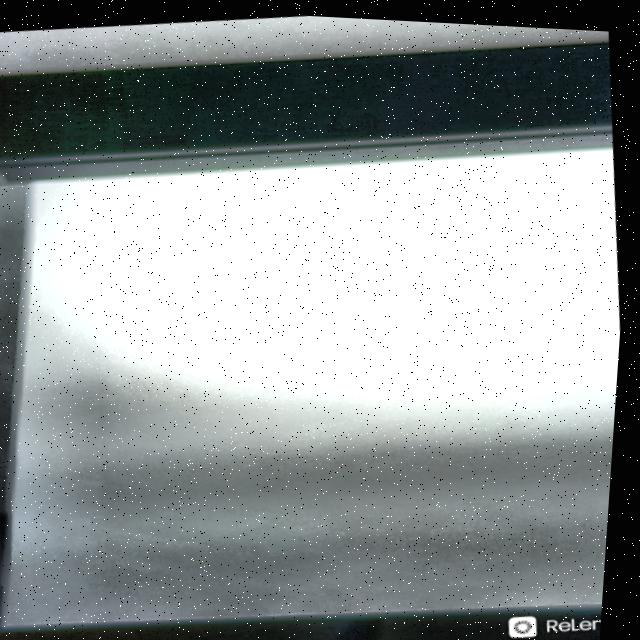Empty: (34, 201, 579, 496)
